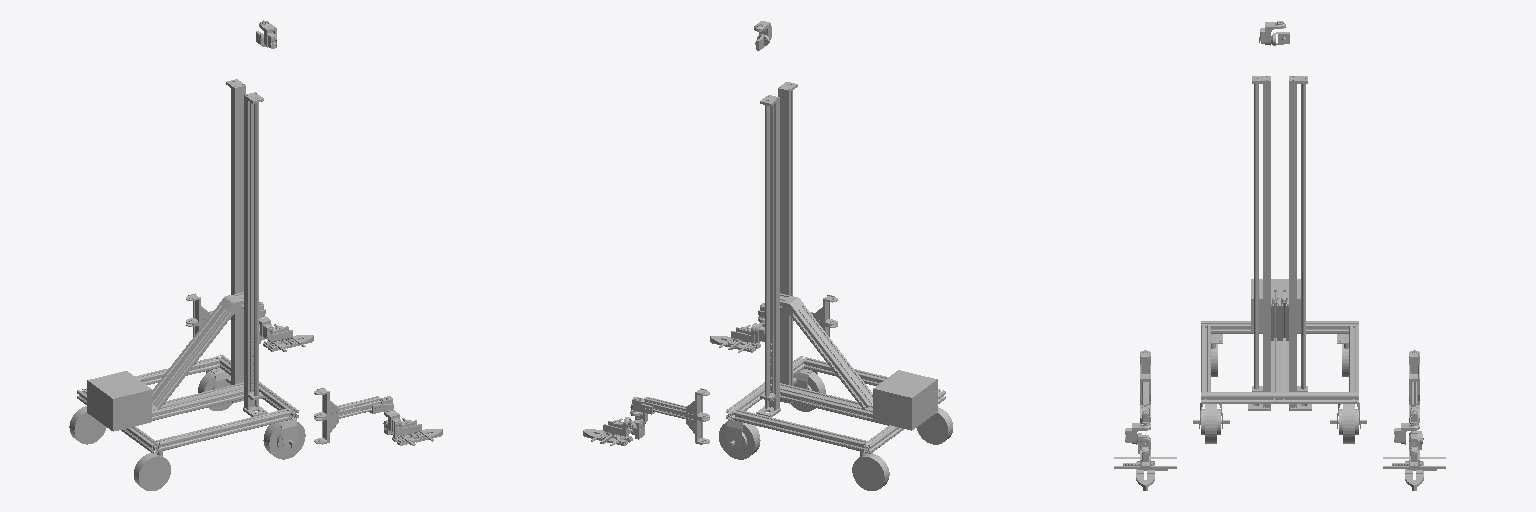
--- Render facts (derived) ---
Views: 3 orthographic renders of the robot side by side, from view 1: azimuth 30°, elevation 25°; view 2: azimuth 150°, elevation 25°; view 3: azimuth 270°, elevation 25°.
Robot: astra_description — 23 links, 22 joints (12 revolute, 6 prismatic, 4 fixed); root link base_link; default pose: all joints at 0.
Links seen in each view (by area): view 1: base_link, link_r3, link_l3; view 2: base_link, link_l3, link_r3; view 3: base_link, link_r3, link_l3, link_r6, link_l6.
Boxes of the visible links, x1,y1,x2,y2 form: base_link: [69, 79, 305, 490]; link_r3: [314, 388, 393, 444]; link_l3: [186, 293, 265, 345]; base_link: [719, 82, 952, 490]; link_l3: [630, 388, 709, 444]; link_r3: [758, 295, 837, 347]; base_link: [1193, 76, 1366, 443]; link_r3: [1140, 350, 1150, 424]; link_l3: [1409, 350, 1419, 424]; link_r6: [1114, 438, 1176, 468]; link_l6: [1383, 438, 1445, 468].
Size in the robot's own frame: 1.07 by 1.05 by 1.5 metres.
15 mesh visuals loaded from 19 distinct referenced files (15 binary STL); not drawn: 4 (reference not matched to a file when rendering).

robot.urdf — astra_description:
<?xml version="1.0" encoding="utf-8"?>
<robot
  name="astra_description">
  <link
    name="base_link">
    <inertial>
      <origin
        xyz="-0.1726 -0.0011902 0.37074"
        rpy="0 0 0" />
      <mass
        value="17.285" />
      <inertia
        ixx="0.88736"
        ixy="-9.7406E-10"
        ixz="-0.0042126"
        iyy="0.90938"
        iyz="1.6278E-09"
        izz="0.076259" />
    </inertial>
    <visual>
      <origin
        xyz="0 0 0"
        rpy="0 0 0" />
      <geometry>
        <mesh
          filename="package://astra_description/meshes/base_link.STL" />
      </geometry>
      <material
        name="">
        <color
          rgba="0.75294 0.75294 0.75294 1" />
      </material>
    </visual>
    <collision>
      <origin
        xyz="0 0 0"
        rpy="0 0 0" />
      <geometry>
        <mesh
          filename="package://astra_description/meshes/base_link.STL" />
      </geometry>
    </collision>
  </link>
  <link
    name="link_r1">
    <inertial>
      <origin
        xyz="0.027157 -3.0871E-12 -1.5958E-11"
        rpy="0 0 0" />
      <mass
        value="0.70739" />
      <inertia
        ixx="0.00060081"
        ixy="6.2989E-14"
        ixz="-1.3373E-13"
        iyy="0.00042262"
        iyz="1.4866E-09"
        izz="0.0002763" />
    </inertial>
    <visual>
      <origin
        xyz="0 0 0"
        rpy="0 0 0" />
      <geometry>
        <mesh
          filename="package://astra_description/meshes/link_r1.STL" />
      </geometry>
      <material
        name="">
        <color
          rgba="0.75294 0.75294 0.75294 1" />
      </material>
    </visual>
    <collision>
      <origin
        xyz="0 0 0"
        rpy="0 0 0" />
      <geometry>
        <mesh
          filename="package://astra_description/meshes/link_r1.STL" />
      </geometry>
    </collision>
  </link>
  <joint
    name="joint_r1"
    type="prismatic">
    <origin
      xyz="-0.0405 -0.065 0.227"
      rpy="0 0 -1.5708" />
    <parent
      link="base_link" />
    <child
      link="link_r1" />
    <axis
      xyz="0 0 1" />
    <limit
      lower="0"
      upper="1.2"
      effort="0"
      velocity="0" />
  </joint>
  <link
    name="link_r2">
    <inertial>
      <origin
        xyz="0.19797 -0.02415 -2.5183E-11"
        rpy="0 0 0" />
      <mass
        value="0.75209" />
      <inertia
        ixx="0.0004318"
        ixy="0.00031904"
        ixz="-1.4792E-09"
        iyy="0.0020715"
        iyz="1.806E-10"
        izz="0.0019227" />
    </inertial>
    <visual>
      <origin
        xyz="0 0 0"
        rpy="0 0 0" />
      <geometry>
        <mesh
          filename="package://astra_description/meshes/link_r2.STL" />
      </geometry>
      <material
        name="">
        <color
          rgba="0.75294 0.75294 0.75294 1" />
      </material>
    </visual>
    <collision>
      <origin
        xyz="0 0 0"
        rpy="0 0 0" />
      <geometry>
        <mesh
          filename="package://astra_description/meshes/link_r2.STL" />
      </geometry>
    </collision>
  </link>
  <joint
    name="joint_r2"
    type="revolute">
    <origin
      xyz="0.068 0 0"
      rpy="0 0 0.18555" />
    <parent
      link="link_r1" />
    <child
      link="link_r2" />
    <axis
      xyz="0 0 1" />
    <limit
      lower="-1.57"
      upper="1.57"
      effort="0"
      velocity="0" />
  </joint>
  <link
    name="link_r3">
    <inertial>
      <origin
        xyz="0.10783 1.63E-05 -0.0023873"
        rpy="0 0 0" />
      <mass
        value="0.39722" />
      <inertia
        ixx="0.00020574"
        ixy="-1.067E-09"
        ixz="1.0482E-06"
        iyy="0.00075294"
        iyz="2.842E-10"
        izz="0.00062472" />
    </inertial>
    <visual>
      <origin
        xyz="0 0 0"
        rpy="0 0 0" />
      <geometry>
        <mesh
          filename="package://astra_description/meshes/link_r3.STL" />
      </geometry>
      <material
        name="">
        <color
          rgba="0.75294 0.75294 0.75294 1" />
      </material>
    </visual>
    <collision>
      <origin
        xyz="0 0 0"
        rpy="0 0 0" />
      <geometry>
        <mesh
          filename="package://astra_description/meshes/link_r3.STL" />
      </geometry>
    </collision>
  </link>
  <joint
    name="joint_r3"
    type="revolute">
    <origin
      xyz="0.29812 0 0"
      rpy="0 0 1.3852" />
    <parent
      link="link_r2" />
    <child
      link="link_r3" />
    <axis
      xyz="0 0 1" />
    <limit
      lower="-1.57"
      upper="1.57"
      effort="0"
      velocity="0" />
  </joint>
  <link
    name="link_r4">
    <inertial>
      <origin
        xyz="7.4339E-05 0.033099 -0.027091"
        rpy="0 0 0" />
      <mass
        value="0.087098" />
      <inertia
        ixx="3.1196E-05"
        ixy="3.7815E-10"
        ixz="-1.0586E-09"
        iyy="2.6879E-05"
        iyz="-5.5018E-06"
        izz="1.8673E-05" />
    </inertial>
    <visual>
      <origin
        xyz="0 0 0"
        rpy="0 0 0" />
      <geometry>
        <mesh
          filename="package://astra_description/meshes/link_r4.STL" />
      </geometry>
      <material
        name="">
        <color
          rgba="0.75294 0.75294 0.75294 1" />
      </material>
    </visual>
    <collision>
      <origin
        xyz="0 0 0"
        rpy="0 0 0" />
      <geometry>
        <mesh
          filename="package://astra_description/meshes/link_r4.STL" />
      </geometry>
    </collision>
  </link>
  <joint
    name="joint_r4"
    type="revolute">
    <origin
      xyz="0.265 0 -0.087"
      rpy="3.1416 0 0" />
    <parent
      link="link_r3" />
    <child
      link="link_r4" />
    <axis
      xyz="0 0 1" />
    <limit
      lower="-3.14"
      upper="3.14"
      effort="0"
      velocity="0" />
  </joint>
  <link
    name="link_r5">
    <inertial>
      <origin
        xyz="0.01097 -0.0063842 -0.0053324"
        rpy="0 0 0" />
      <mass
        value="0.076944" />
      <inertia
        ixx="1.0865E-05"
        ixy="1.722E-06"
        ixz="-1.6372E-06"
        iyy="2.1382E-05"
        iyz="1.7243E-06"
        izz="1.8572E-05" />
    </inertial>
    <visual>
      <origin
        xyz="0 0 0"
        rpy="0 0 0" />
      <geometry>
        <mesh
          filename="package://astra_description/meshes/link_r5.STL" />
      </geometry>
      <material
        name="">
        <color
          rgba="0.75294 0.75294 0.75294 1" />
      </material>
    </visual>
    <collision>
      <origin
        xyz="0 0 0"
        rpy="0 0 0" />
      <geometry>
        <mesh
          filename="package://astra_description/meshes/link_r5.STL" />
      </geometry>
    </collision>
  </link>
  <joint
    name="joint_r5"
    type="revolute">
    <origin
      xyz="0 0 0"
      rpy="1.5708 -1.5708 0" />
    <parent
      link="link_r4" />
    <child
      link="link_r5" />
    <axis
      xyz="0 0 1" />
    <limit
      lower="-1.57"
      upper="1.57"
      effort="0"
      velocity="0" />
  </joint>
  <link
    name="link_r6">
    <inertial>
      <origin
        xyz="0.038451 4.6462E-05 0.063125"
        rpy="0 0 0" />
      <mass
        value="0.13935" />
      <inertia
        ixx="9.6304E-05"
        ixy="-3.781E-10"
        ixz="-1.7516E-05"
        iyy="7.1049E-05"
        iyz="-1.065E-09"
        izz="8.241E-05" />
    </inertial>
    <visual>
      <origin
        xyz="0 0 0"
        rpy="0 0 0" />
      <geometry>
        <mesh
          filename="package://astra_description/meshes/link_r6.STL" />
      </geometry>
      <material
        name="">
        <color
          rgba="0.75294 0.75294 0.75294 1" />
      </material>
    </visual>
    <collision>
      <origin
        xyz="0 0 0"
        rpy="0 0 0" />
      <geometry>
        <mesh
          filename="package://astra_description/meshes/link_r6.STL" />
      </geometry>
    </collision>
  </link>
  <joint
    name="joint_r6"
    type="revolute">
    <origin
      xyz="0 0 0"
      rpy="1.5708 0 0" />
    <parent
      link="link_r5" />
    <child
      link="link_r6" />
    <axis
      xyz="0 0 1" />
    <limit
      lower="-1.57"
      upper="1.57"
      effort="0"
      velocity="0" />
  </joint>
  <link
    name="link_r7r">
    <inertial>
      <origin
        xyz="-0.083182 0.0061024 0.0093037"
        rpy="0 0 0" />
      <mass
        value="0.046957" />
      <inertia
        ixx="7.5505E-06"
        ixy="2.8052E-06"
        ixz="5.9927E-06"
        iyy="9.4772E-05"
        iyz="-5.5999E-07"
        izz="8.8929E-05" />
    </inertial>
    <visual>
      <origin
        xyz="0 0 0"
        rpy="0 0 0" />
      <geometry>
        <mesh
          filename="package://astra_description/meshes/link_r7r.STL" />
      </geometry>
      <material
        name="">
        <color
          rgba="0.75294 0.75294 0.75294 1" />
      </material>
    </visual>
    <collision>
      <origin
        xyz="0 0 0"
        rpy="0 0 0" />
      <geometry>
        <mesh
          filename="package://astra_description/meshes/link_r7r.STL" />
      </geometry>
    </collision>
  </link>
  <joint
    name="joint_r7r"
    type="prismatic">
    <origin
      xyz="0.078 0 0.195"
      rpy="1.5708 -1.5708 0" />
    <parent
      link="link_r6" />
    <child
      link="link_r7r" />
    <axis
      xyz="0 0 1" />
    <limit
      lower="0"
      upper="0.06"
      effort="0"
      velocity="0" />
  </joint>
  <link
    name="link_r7l">
    <inertial>
      <origin
        xyz="-0.087979 0.0061024 -0.0093037"
        rpy="0 0 0" />
      <mass
        value="0.046957" />
      <inertia
        ixx="7.5505E-06"
        ixy="2.8568E-06"
        ixz="-6.0106E-06"
        iyy="9.56E-05"
        iyz="5.5999E-07"
        izz="8.9757E-05" />
    </inertial>
    <visual>
      <origin
        xyz="0 0 0"
        rpy="0 0 0" />
      <geometry>
        <mesh
          filename="package://astra_description/meshes/link_r7l.STL" />
      </geometry>
      <material
        name="">
        <color
          rgba="0.75294 0.75294 0.75294 1" />
      </material>
    </visual>
    <collision>
      <origin
        xyz="0 0 0"
        rpy="0 0 0" />
      <geometry>
        <mesh
          filename="package://astra_description/meshes/link_r7l.STL" />
      </geometry>
    </collision>
  </link>
  <joint
    name="joint_r7l"
    type="prismatic">
    <origin
      xyz="0.078 0 0.195"
      rpy="1.5708 -1.5708 0" />
    <parent
      link="link_r6" />
    <child
      link="link_r7l" />
    <axis
      xyz="0 0 1" />
    <limit
      lower="-0.06"
      upper="0"
      effort="0"
      velocity="0" />
  </joint>
  <link
    name="link_ree">
  </link>
  <joint
    name="joint_ree"
    type="fixed">
    <origin
      xyz="0.063 0 0.195"
      rpy="0 -1.5708 0" />
    <parent
      link="link_r6" />
    <child
      link="link_ree" />
  </joint>
  <link
    name="link_ree_teleop">
    <inertial>
      <origin xyz="0.0 0.0 0.0" rpy="0.0 0.0 0.0"/>
      <mass value="0.0"/>
      <inertia ixx="0.0" ixy="0.0" ixz="0.0" iyy="0.0" iyz="0.0" izz="0.0"/>
    </inertial>
    <collision>
      <geometry>
        <cylinder radius="0.0" length="0.0"/>
      </geometry>
      <origin xyz="0.0 0.0 0.0" rpy="0.0 0.0 0.0"/>
    </collision>
  </link>
  <joint
    name="joint_ree_teleop"
    type="fixed">
    <!-- eef on ball joint -->
    <!-- <origin
      xyz="0.0 0.0 0.0"
      rpy="0 -1.5708 0" /> -->
    <!-- eef on gripper center -->
    <!-- <origin
      xyz="0.080 0.0 0.195"
      rpy="0 -1.5708 0" /> -->
    <!-- eef on gripper center z-axis + 0.060m (consider teleop tag)  -->
    <origin
      xyz="0.020 0.0 0.195"
      rpy="0 -1.5708 0" />
    <parent
      link="link_r6" />
    <child
      link="link_ree_teleop" />
  </joint>
  <link
    name="link_l1">
    <inertial>
      <origin
        xyz="0.027157 -4.3066E-13 -6.6736E-12"
        rpy="0 0 0" />
      <mass
        value="0.70739" />
      <inertia
        ixx="0.00060081"
        ixy="-4.2708E-15"
        ixz="-1.6897E-15"
        iyy="0.00042262"
        iyz="1.4866E-09"
        izz="0.0002763" />
    </inertial>
    <visual>
      <origin
        xyz="0 0 0"
        rpy="0 0 0" />
      <geometry>
        <mesh
          filename="package://astra_description/meshes/link_l1.STL" />
      </geometry>
      <material
        name="">
        <color
          rgba="0.75294 0.75294 0.75294 1" />
      </material>
    </visual>
    <collision>
      <origin
        xyz="0 0 0"
        rpy="0 0 0" />
      <geometry>
        <mesh
          filename="package://astra_description/meshes/link_l1.STL" />
      </geometry>
    </collision>
  </link>
  <joint
    name="joint_l1"
    type="prismatic">
    <origin
      xyz="-0.0405 0.065 0.227"
      rpy="0 0 1.5708" />
    <parent
      link="base_link" />
    <child
      link="link_l1" />
    <axis
      xyz="0 0 1" />
    <limit
      lower="0"
      upper="1.2"
      effort="0"
      velocity="0" />
  </joint>
  <link
    name="link_l2">
    <inertial>
      <origin
        xyz="0.19797 0.02415 1.1147E-11"
        rpy="0 0 0" />
      <mass
        value="0.75209" />
      <inertia
        ixx="0.0004318"
        ixy="-0.00031904"
        ixz="1.4791E-09"
        iyy="0.0020715"
        iyz="1.8051E-10"
        izz="0.0019227" />
    </inertial>
    <visual>
      <origin
        xyz="0 0 0"
        rpy="0 0 0" />
      <geometry>
        <mesh
          filename="package://astra_description/meshes/link_l2.STL" />
      </geometry>
      <material
        name="">
        <color
          rgba="0.75294 0.75294 0.75294 1" />
      </material>
    </visual>
    <collision>
      <origin
        xyz="0 0 0"
        rpy="0 0 0" />
      <geometry>
        <mesh
          filename="package://astra_description/meshes/link_l2.STL" />
      </geometry>
    </collision>
  </link>
  <joint
    name="joint_l2"
    type="revolute">
    <origin
      xyz="0.068 0 0"
      rpy="0 0 -0.18555" />
    <parent
      link="link_l1" />
    <child
      link="link_l2" />
    <axis
      xyz="0 0 1" />
    <limit
      lower="-1.57"
      upper="1.57"
      effort="0"
      velocity="0" />
  </joint>
  <link
    name="link_l3">
    <inertial>
      <origin
        xyz="0.10783 1.63E-05 -0.0023873"
        rpy="0 0 0" />
      <mass
        value="0.39722" />
      <inertia
        ixx="0.00020574"
        ixy="-1.067E-09"
        ixz="1.0482E-06"
        iyy="0.00075294"
        iyz="2.844E-10"
        izz="0.00062472" />
    </inertial>
    <visual>
      <origin
        xyz="0 0 0"
        rpy="0 0 0" />
      <geometry>
        <mesh
          filename="package://astra_description/meshes/link_l3.STL" />
      </geometry>
      <material
        name="">
        <color
          rgba="0.75294 0.75294 0.75294 1" />
      </material>
    </visual>
    <collision>
      <origin
        xyz="0 0 0"
        rpy="0 0 0" />
      <geometry>
        <mesh
          filename="package://astra_description/meshes/link_l3.STL" />
      </geometry>
    </collision>
  </link>
  <joint
    name="joint_l3"
    type="revolute">
    <origin
      xyz="0.29812 0 0"
      rpy="0 0 -1.3852" />
    <parent
      link="link_l2" />
    <child
      link="link_l3" />
    <axis
      xyz="0 0 1" />
    <limit
      lower="-1.57"
      upper="1.57"
      effort="0"
      velocity="0" />
  </joint>
  <link
    name="link_l4">
    <inertial>
      <origin
        xyz="-7.4339E-05 -0.033099 -0.027091"
        rpy="0 0 0" />
      <mass
        value="0.087098" />
      <inertia
        ixx="3.1196E-05"
        ixy="3.7816E-10"
        ixz="1.0586E-09"
        iyy="2.6879E-05"
        iyz="5.5018E-06"
        izz="1.8673E-05" />
    </inertial>
    <visual>
      <origin
        xyz="0 0 0"
        rpy="0 0 3.1416" />
      <geometry>
        <mesh
          filename="package://astra_description/meshes/link_l4.STL" />
      </geometry>
      <material
        name="">
        <color
          rgba="0.75294 0.75294 0.75294 1" />
      </material>
    </visual>
    <collision>
      <origin
        xyz="0 0 0"
        rpy="0 0 0" />
      <geometry>
        <mesh
          filename="package://astra_description/meshes/link_l4.STL" />
      </geometry>
    </collision>
  </link>
  <joint
    name="joint_l4"
    type="revolute">
    <origin
      xyz="0.265 0 -0.087"
      rpy="3.1416 0 3.1416" />
    <parent
      link="link_l3" />
    <child
      link="link_l4" />
    <axis
      xyz="0 0 1" />
    <limit
      lower="-3.14"
      upper="3.14"
      effort="0"
      velocity="0" />
  </joint>
  <link
    name="link_l5">
    <inertial>
      <origin
        xyz="0.011811 0.0068737 -0.0043391"
        rpy="0 0 0" />
      <mass
        value="0.071465" />
      <inertia
        ixx="1.0672E-05"
        ixy="-1.722E-06"
        ixz="-1.6393E-06"
        iyy="2.1189E-05"
        iyz="-1.7236E-06"
        izz="1.856E-05" />
    </inertial>
    <visual>
      <origin
        xyz="0 0 0"
        rpy="0 0 0" />
      <geometry>
        <mesh
          filename="package://astra_description/meshes/link_l5.STL" />
      </geometry>
      <material
        name="">
        <color
          rgba="0.75294 0.75294 0.75294 1" />
      </material>
    </visual>
    <collision>
      <origin
        xyz="0 0 0"
        rpy="0 0 0" />
      <geometry>
        <mesh
          filename="package://astra_description/meshes/link_l5.STL" />
      </geometry>
    </collision>
  </link>
  <joint
    name="joint_l5"
    type="revolute">
    <origin
      xyz="0 0 0"
      rpy="1.5708 -1.5708 0" />
    <parent
      link="link_l4" />
    <child
      link="link_l5" />
    <axis
      xyz="0 0 1" />
    <limit
      lower="-1.57"
      upper="1.57"
      effort="0"
      velocity="0" />
  </joint>
  <link
    name="link_l6">
    <inertial>
      <origin
        xyz="0.038451 4.6462E-05 0.063125"
        rpy="0 0 0" />
      <mass
        value="0.13935" />
      <inertia
        ixx="9.6304E-05"
        ixy="-3.781E-10"
        ixz="-1.7516E-05"
        iyy="7.1049E-05"
        iyz="-1.065E-09"
        izz="8.241E-05" />
    </inertial>
    <visual>
      <origin
        xyz="0 0 0"
        rpy="0 0 0" />
      <geometry>
        <mesh
          filename="package://astra_description/meshes/link_l6.STL" />
      </geometry>
      <material
        name="">
        <color
          rgba="0.75294 0.75294 0.75294 1" />
      </material>
    </visual>
    <collision>
      <origin
        xyz="0 0 0"
        rpy="0 0 0" />
      <geometry>
        <mesh
          filename="package://astra_description/meshes/link_l6.STL" />
      </geometry>
    </collision>
  </link>
  <joint
    name="joint_l6"
    type="revolute">
    <origin
      xyz="0 0 0"
      rpy="-1.5708 0 0" />
    <parent
      link="link_l5" />
    <child
      link="link_l6" />
    <axis
      xyz="0 0 1" />
    <limit
      lower="-1.57"
      upper="1.57"
      effort="0"
      velocity="0" />
  </joint>
  <link
    name="link_l7r">
    <inertial>
      <origin
        xyz="-0.083182 0.0061024 0.0093037"
        rpy="0 0 0" />
      <mass
        value="0.046957" />
      <inertia
        ixx="7.5505E-06"
        ixy="2.8052E-06"
        ixz="5.9927E-06"
        iyy="9.4772E-05"
        iyz="-5.5999E-07"
        izz="8.8929E-05" />
    </inertial>
    <visual>
      <origin
        xyz="0 0 0"
        rpy="0 0 0" />
      <geometry>
        <mesh
          filename="package://astra_description/meshes/link_l7r.STL" />
      </geometry>
      <material
        name="">
        <color
          rgba="0.75294 0.75294 0.75294 1" />
      </material>
    </visual>
    <collision>
      <origin
        xyz="0 0 0"
        rpy="0 0 0" />
      <geometry>
        <mesh
          filename="package://astra_description/meshes/link_l7r.STL" />
      </geometry>
    </collision>
  </link>
  <joint
    name="joint_l7r"
    type="prismatic">
    <origin
      xyz="0.078 0 0.195"
      rpy="1.5708 -1.5708 0" />
    <parent
      link="link_l6" />
    <child
      link="link_l7r" />
    <axis
      xyz="0 0 1" />
    <limit
      lower="0"
      upper="0.06"
      effort="0"
      velocity="0" />
  </joint>
  <link
    name="link_l7l">
    <inertial>
      <origin
        xyz="-0.087979 0.0061024 -0.0093037"
        rpy="0 0 0" />
      <mass
        value="0.046957" />
      <inertia
        ixx="7.5505E-06"
        ixy="2.8568E-06"
        ixz="-6.0106E-06"
        iyy="9.56E-05"
        iyz="5.5999E-07"
        izz="8.9757E-05" />
    </inertial>
    <visual>
      <origin
        xyz="0 0 0"
        rpy="0 0 0" />
      <geometry>
        <mesh
          filename="package://astra_description/meshes/link_l7l.STL" />
      </geometry>
      <material
        name="">
        <color
          rgba="0.75294 0.75294 0.75294 1" />
      </material>
    </visual>
    <collision>
      <origin
        xyz="0 0 0"
        rpy="0 0 0" />
      <geometry>
        <mesh
          filename="package://astra_description/meshes/link_l7l.STL" />
      </geometry>
    </collision>
  </link>
  <joint
    name="joint_l7l"
    type="prismatic">
    <origin
      xyz="0.078 0 0.195"
      rpy="1.5708 -1.5708 0" />
    <parent
      link="link_l6" />
    <child
      link="link_l7l" />
    <axis
      xyz="0 0 1" />
    <limit
      lower="-0.06"
      upper="0"
      effort="0"
      velocity="0" />
  </joint>
  <link
    name="link_lee">
  </link>
  <joint
    name="joint_lee"
    type="fixed">
    <origin
      xyz="0.063 0 0.195"
      rpy="0 -1.5708 0" />
    <parent
      link="link_l6" />
    <child
      link="link_lee" />
    <axis
      xyz="0 0 0" />
  </joint>
  <link
    name="link_lee_teleop">
    <inertial>
      <origin xyz="0.0 0.0 0.0" rpy="0.0 0.0 0.0"/>
      <mass value="0.0"/>
      <inertia ixx="0.0" ixy="0.0" ixz="0.0" iyy="0.0" iyz="0.0" izz="0.0"/>
    </inertial>
    <collision>
      <geometry>
        <cylinder radius="0.0" length="0.0"/>
      </geometry>
      <origin xyz="0.0 0.0 0.0" rpy="0.0 0.0 0.0"/>
    </collision>
  </link>
  <joint
    name="joint_lee_teleop"
    type="fixed">
    <!-- eef on ball joint -->
    <!-- <origin
      xyz="0.0 0.0 0.0"
      rpy="0 -1.5708 0" /> -->
    <!-- eef on gripper center -->
    <!-- <origin
      xyz="0.080 0.0 0.195"
      rpy="0 -1.5708 0" /> -->
    <!-- eef on gripper center z-axis + 0.060m (consider teleop tag)  -->
    <origin
      xyz="0.020 0.0 0.195"
      rpy="0 -1.5708 0" />
    <parent
      link="link_l6" />
    <child
      link="link_lee_teleop" />
    <axis
      xyz="0 0 0" />
  </joint>
  <link
    name="link_head_pan">
    <inertial>
      <origin
        xyz="7.4339E-05 0.033099 -0.027091"
        rpy="0 0 0" />
      <mass
        value="0.087098" />
      <inertia
        ixx="3.1196E-05"
        ixy="3.7815E-10"
        ixz="-1.0586E-09"
        iyy="2.6879E-05"
        iyz="-5.5018E-06"
        izz="1.8673E-05" />
    </inertial>
    <visual>
      <origin
        xyz="0 0 0"
        rpy="0 0 0" />
      <geometry>
        <mesh
          filename="package://astra_description/meshes/link_head_pan.STL" />
      </geometry>
      <material
        name="">
        <color
          rgba="0.75294 0.75294 0.75294 1" />
      </material>
    </visual>
    <collision>
      <origin
        xyz="0 0 0"
        rpy="0 0 0" />
      <geometry>
        <mesh
          filename="package://astra_description/meshes/link_head_pan.STL" />
      </geometry>
    </collision>
  </link>
  <joint
    name="joint_head_pan"
    type="revolute">
    <origin
      xyz="0.05 0 1.429"
      rpy="-3.1416 0 0" />
    <parent
      link="base_link" />
    <child
      link="link_head_pan" />
    <axis
      xyz="0 0 1" />
    <limit
      lower="-1.57"
      upper="1.57"
      effort="0"
      velocity="0" />
  </joint>
  <link
    name="link_head_tilt">
    <inertial>
      <origin
        xyz="-0.0076351 5.9952E-15 -0.0029726"
        rpy="0 0 0" />
      <mass
        value="0.032288" />
      <inertia
        ixx="5.5219E-06"
        ixy="1.4324E-20"
        ixz="5.4317E-08"
        iyy="4.6642E-06"
        iyz="-1.2451E-21"
        izz="5.6225E-06" />
    </inertial>
    <visual>
      <origin
        xyz="0 0 0"
        rpy="0 0 0" />
      <geometry>
        <mesh
          filename="package://astra_description/meshes/link_head_tilt.STL" />
      </geometry>
      <material
        name="">
        <color
          rgba="0.75294 0.75294 0.75294 1" />
      </material>
    </visual>
    <collision>
      <origin
        xyz="0 0 0"
        rpy="0 0 0" />
      <geometry>
        <mesh
          filename="package://astra_description/meshes/link_head_tilt.STL" />
      </geometry>
    </collision>
  </link>
  <joint
    name="joint_head_tilt"
    type="revolute">
    <origin
      xyz="0 0 0"
      rpy="1.5708 0 0" />
    <parent
      link="link_head_pan" />
    <child
      link="link_head_tilt" />
    <axis
      xyz="0 0 1" />
    <limit
      lower="-3.14"
      upper="3.14"
      effort="0"
      velocity="0" />
  </joint>
</robot>
